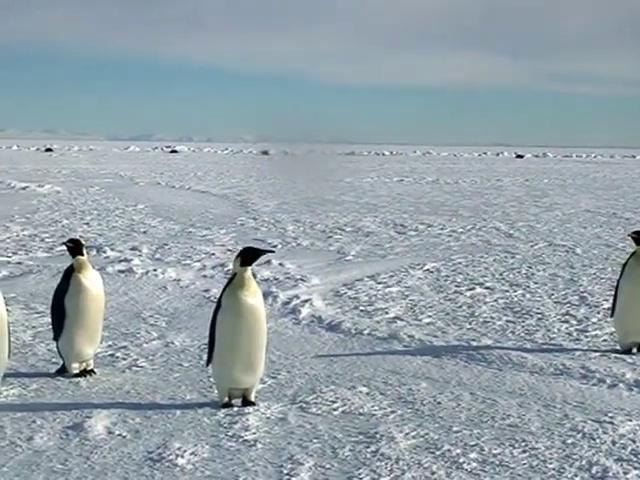animal: (206, 246, 273, 407)
